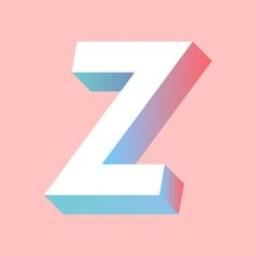z: (41, 33, 215, 221)
